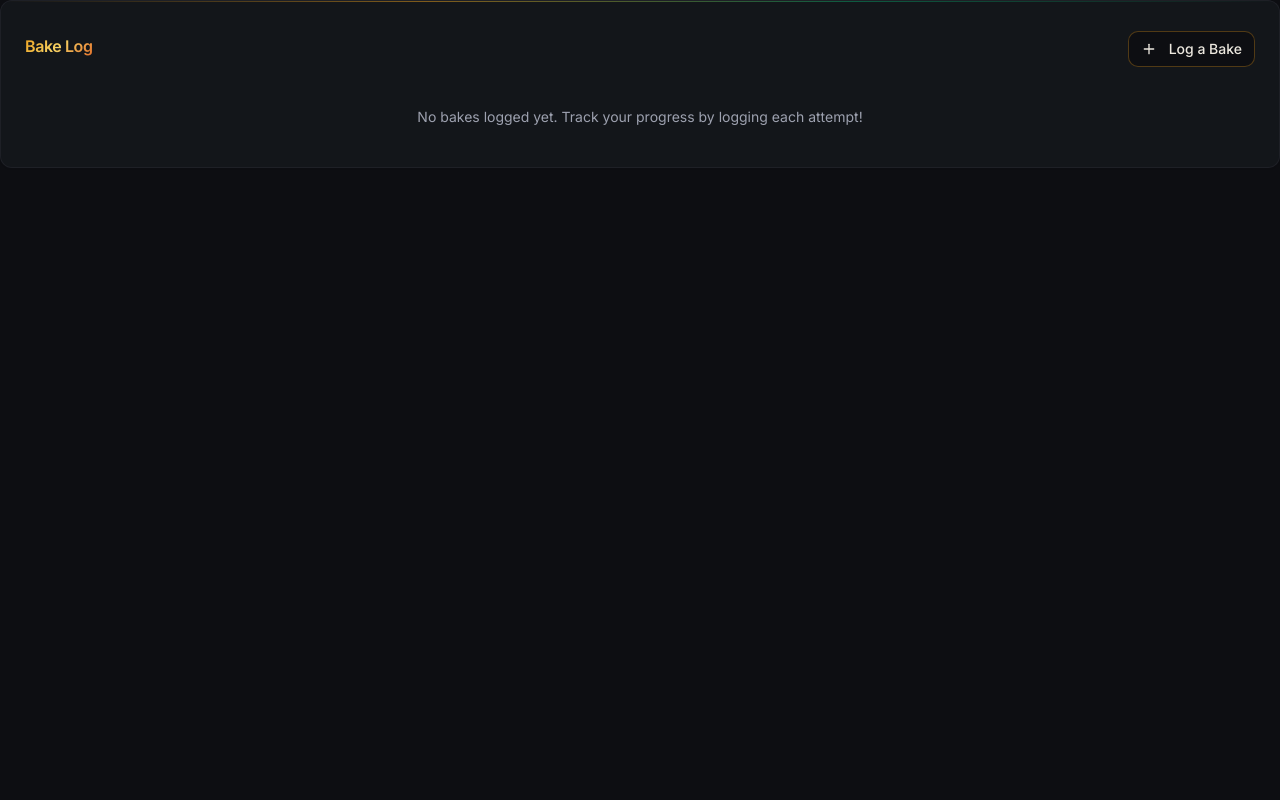
Test case: caps uploads at four, resizes photos, and retains only the photos left in the draft
The width and height of the screenshot is (1280, 800).
Later steps or results of the test are not shown.
Click the button "Log a Bake". click: (1191, 49)
box: [1128, 31, 1255, 67]
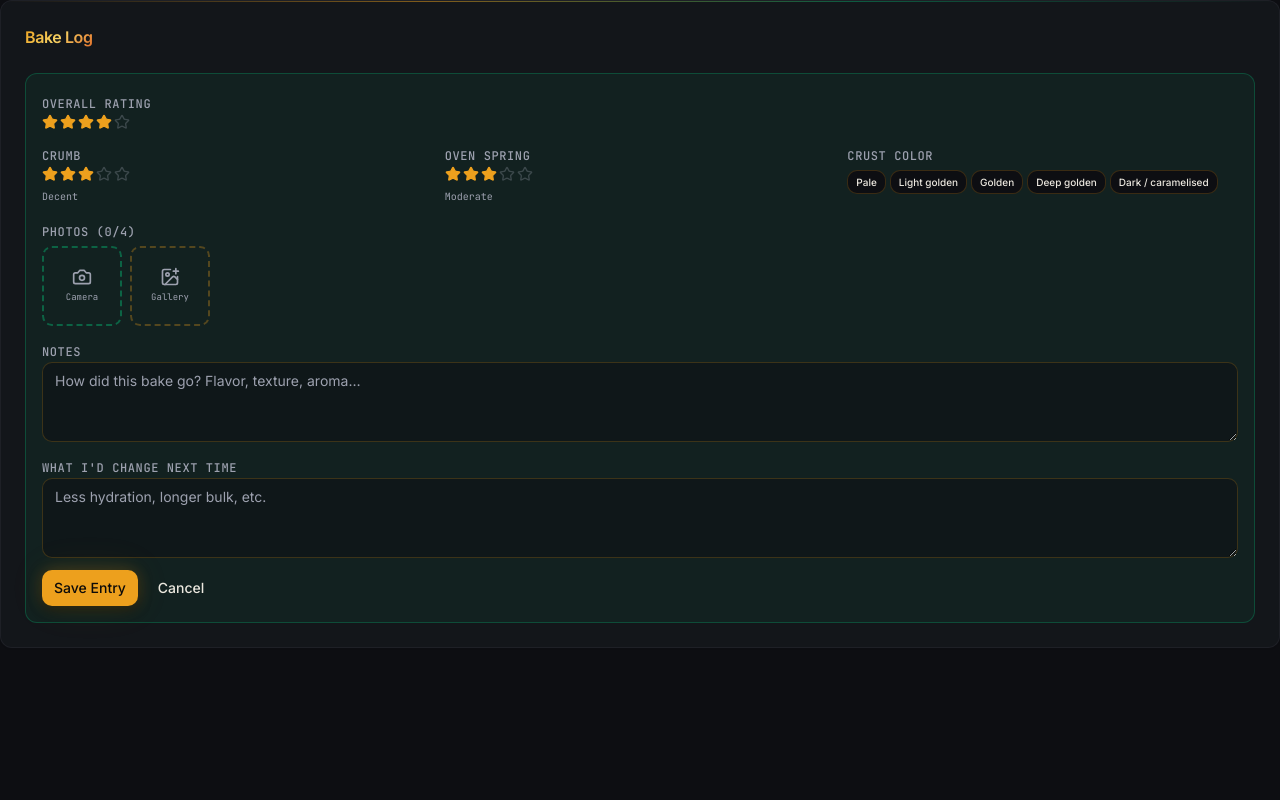
Expected: the element showing "Camera Gallery" is shown, [42, 246, 210, 326]
